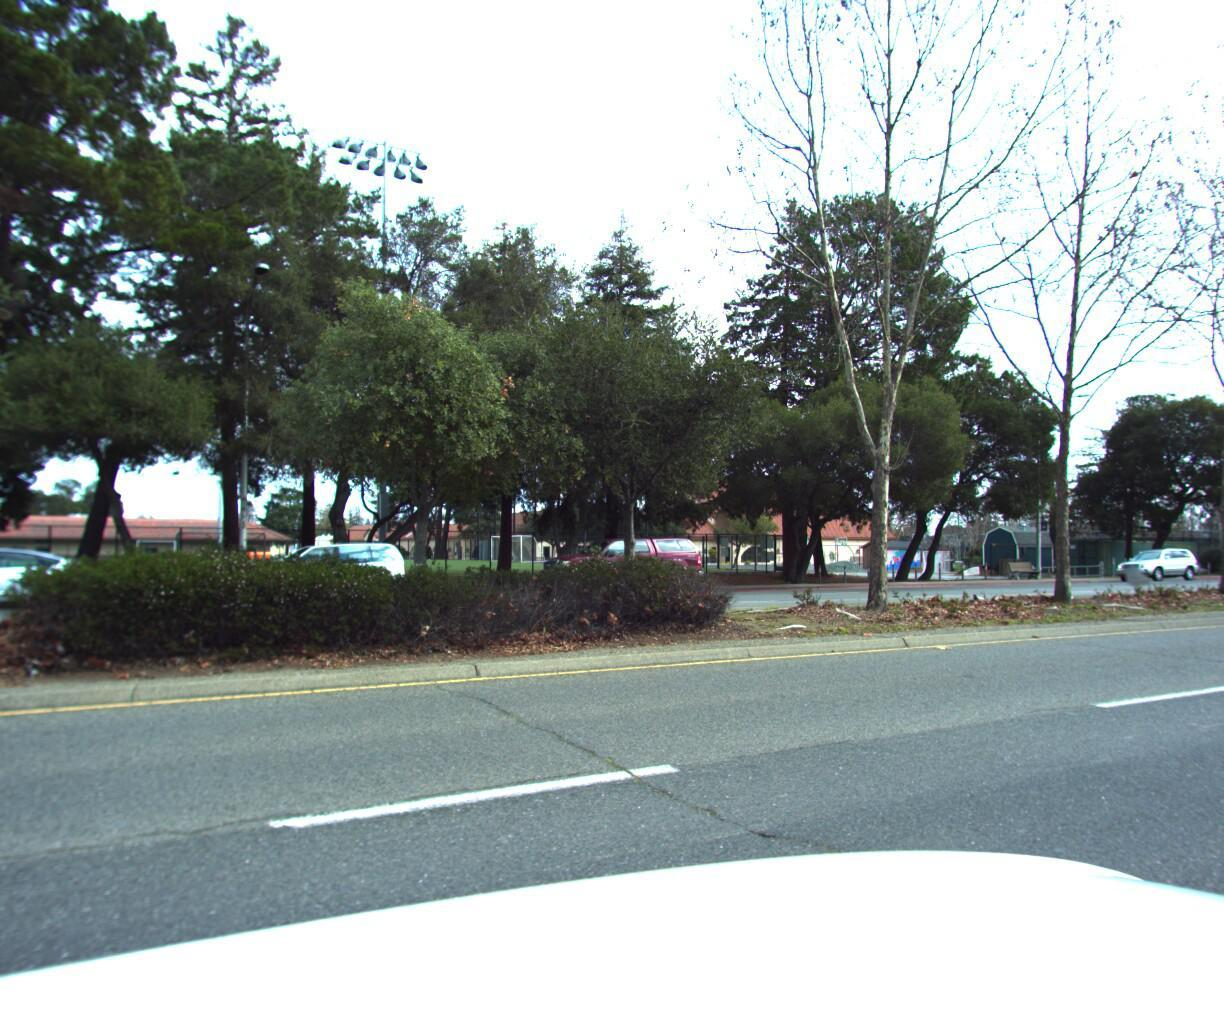car: (223, 533, 417, 605), (528, 526, 705, 594), (0, 543, 97, 618), (1104, 538, 1197, 576)
